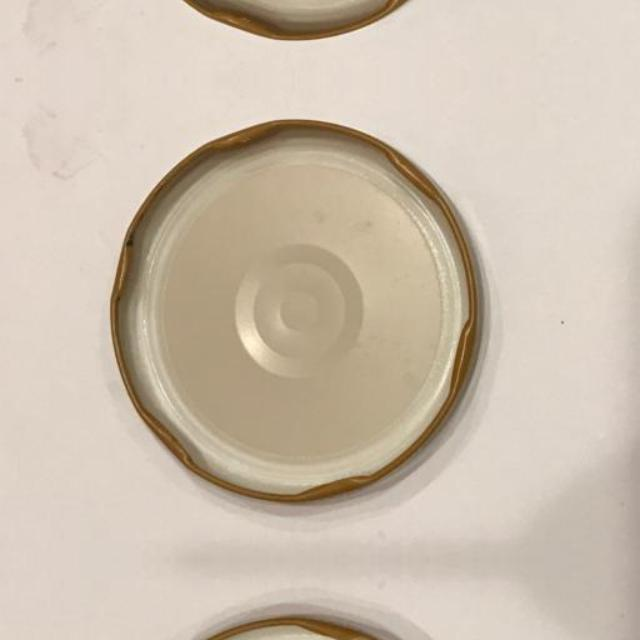Metal: (84, 106, 506, 526), (84, 0, 506, 54), (84, 594, 506, 640)
